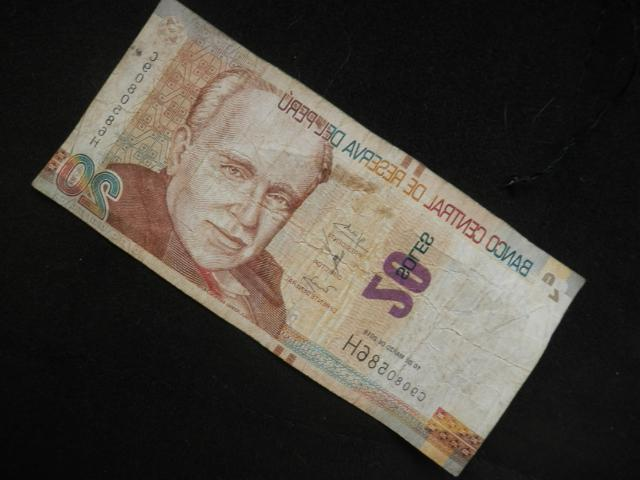B20: (33, 1, 587, 480)
